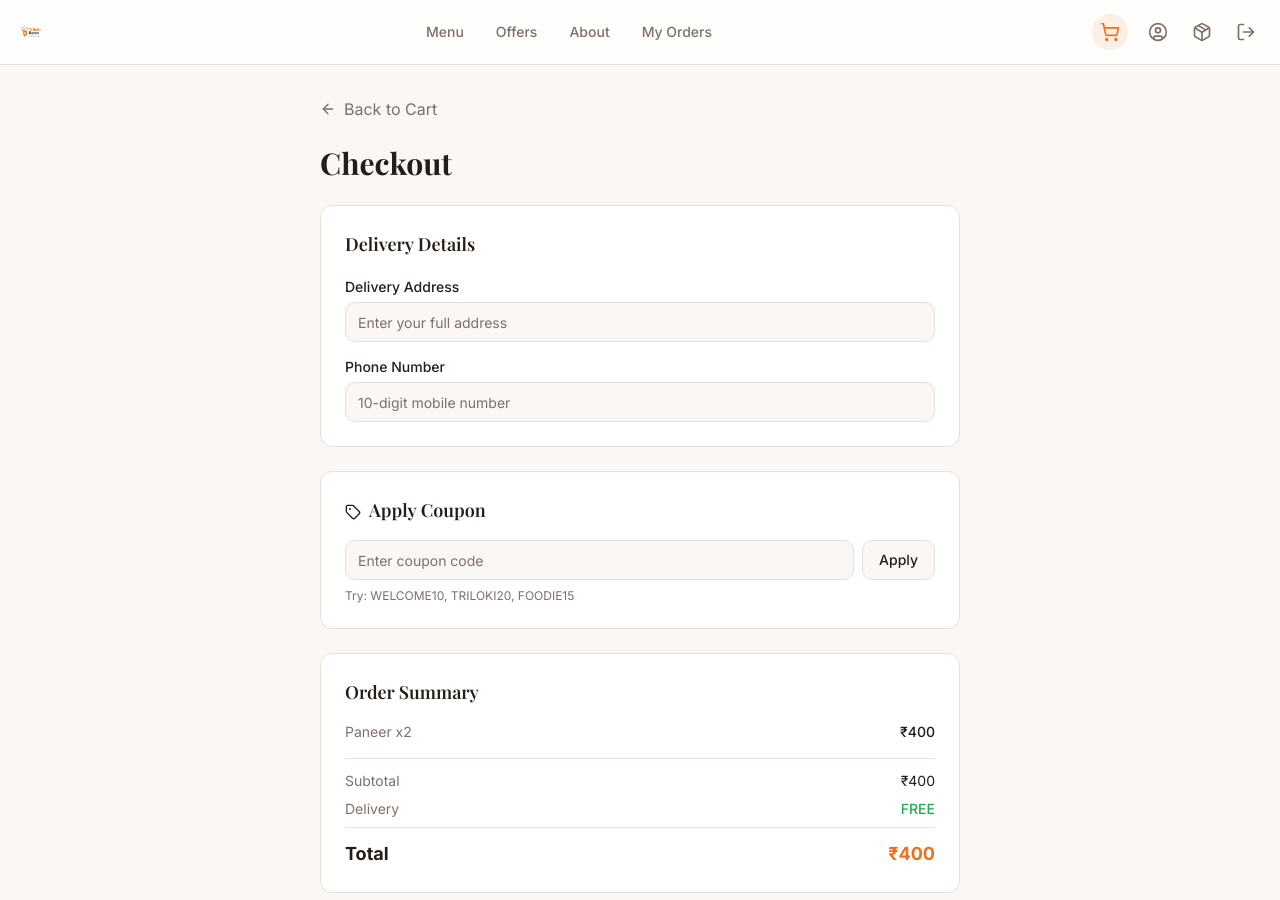
Test: Checkout › applies a valid coupon and places an order
Type "Main Street" into the field with placeholder "Enter your full address" at [640, 322], box [345,302,935,342]
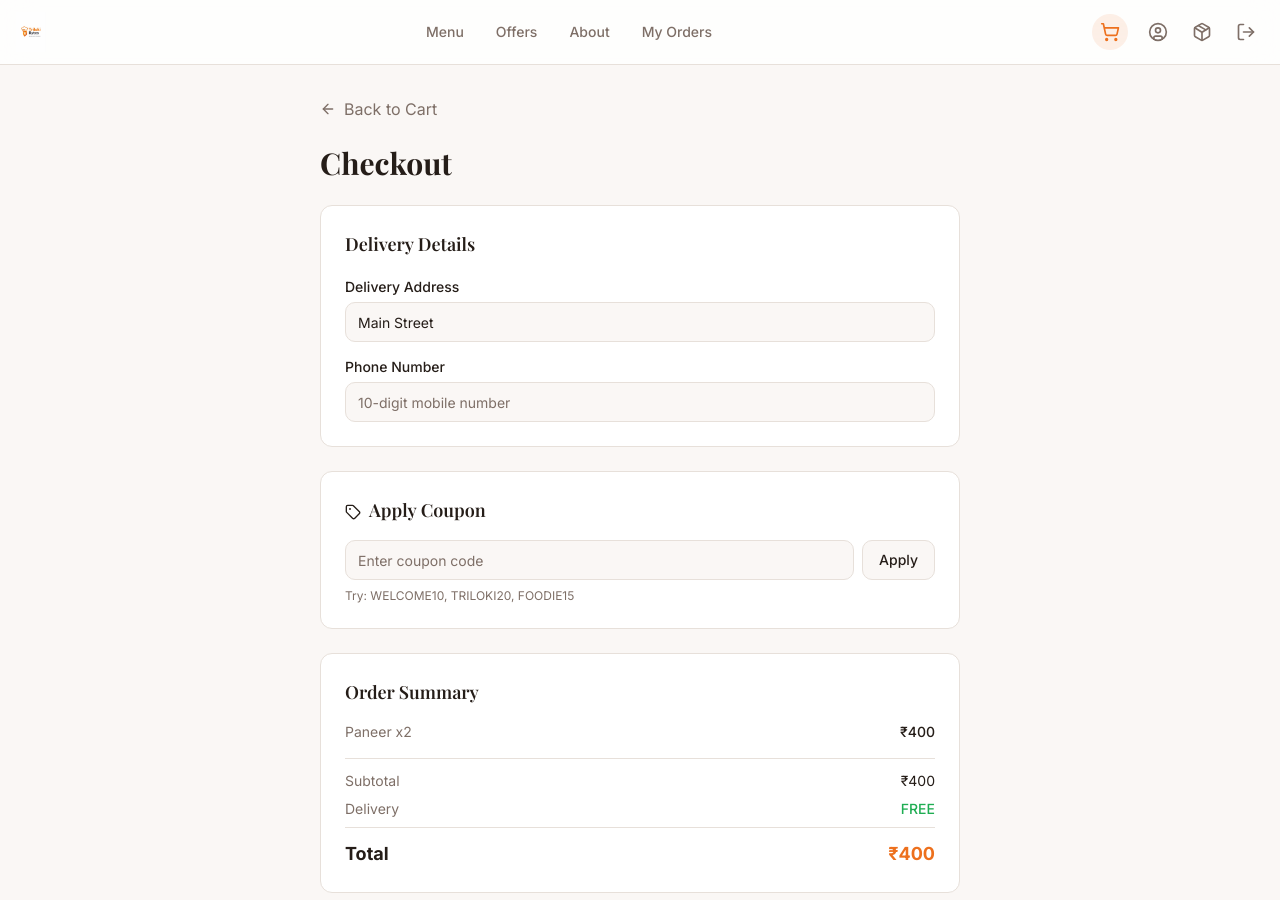
Type "9876543210" into the field with placeholder "10-digit mobile number" at [640, 402], box [345,382,935,422]
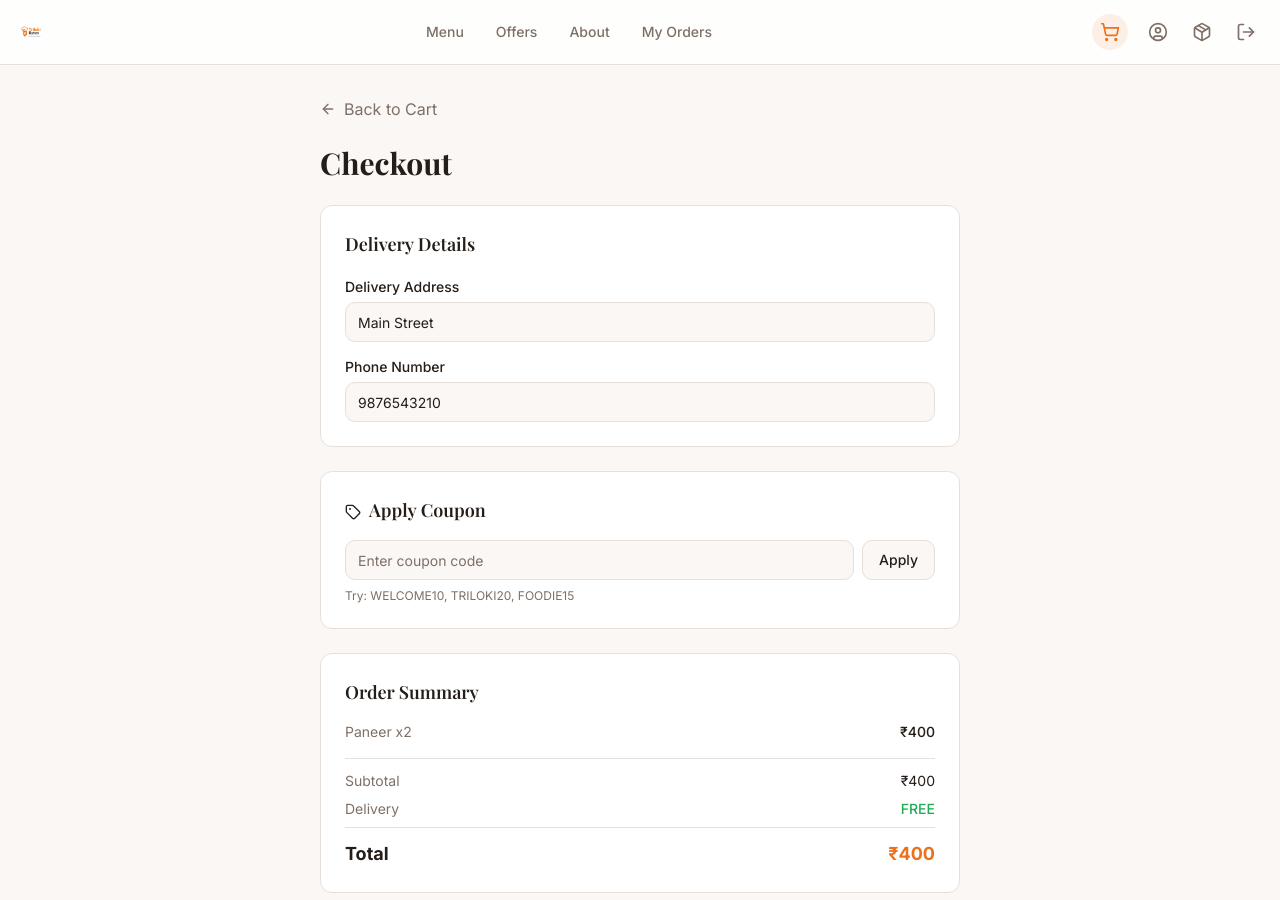
Type "WELCOME10" into the field with placeholder "Enter coupon code" at [600, 560], box [345,540,854,580]
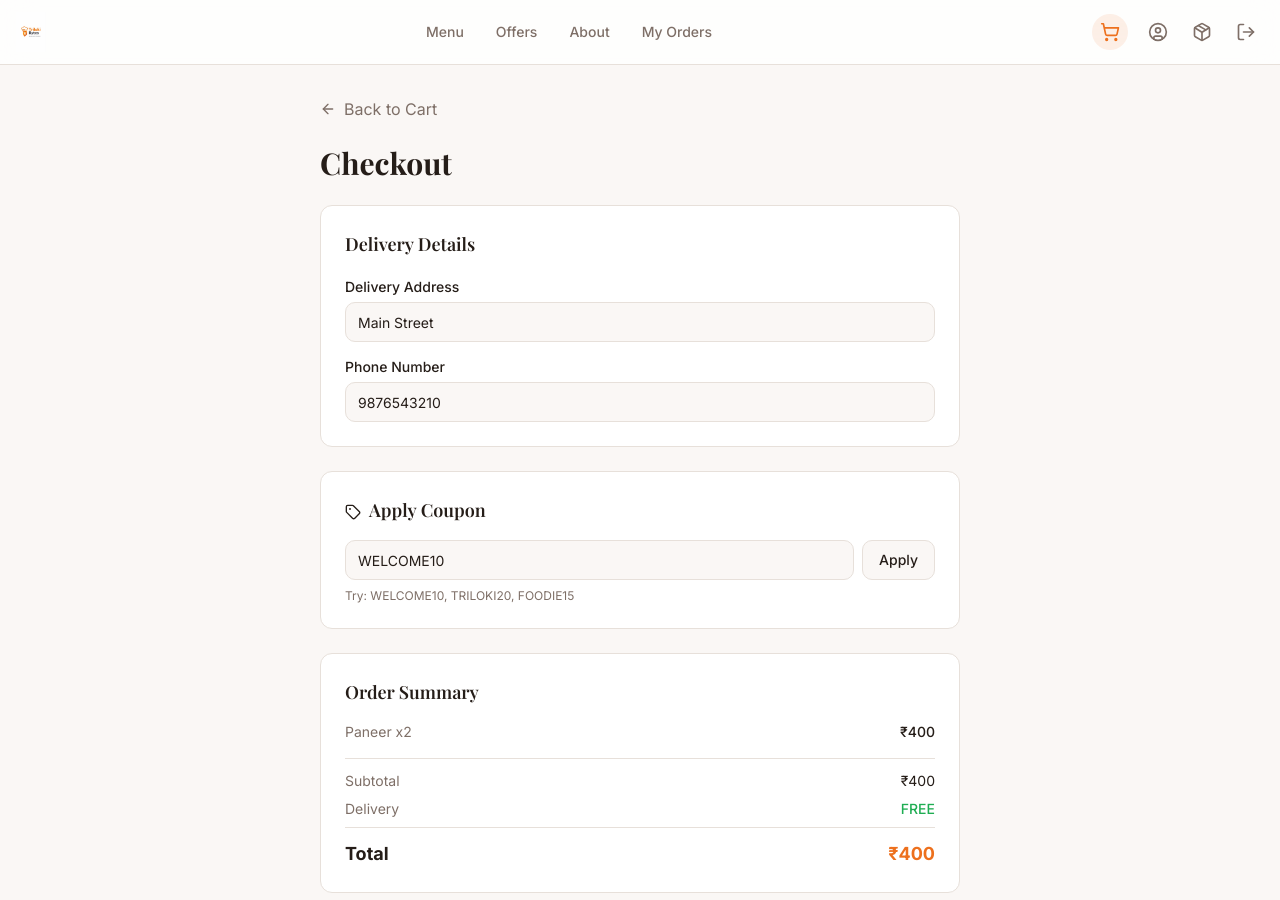
Click the button "Apply" at [899, 560], box [862,540,935,580]
(page scrolled)
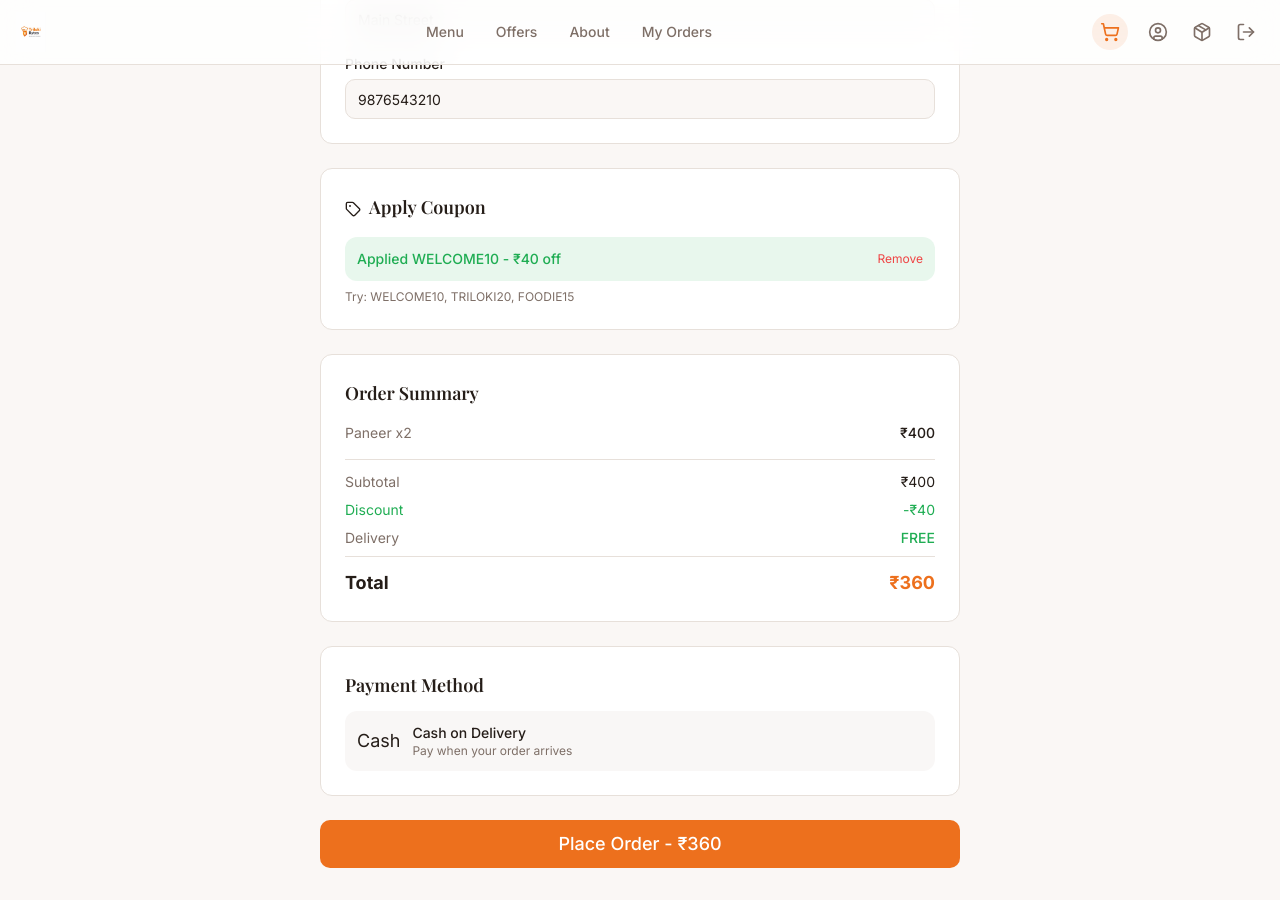
Click the button "Place Order - ₹360" at [640, 844], box [320,820,960,868]
(page scrolled)
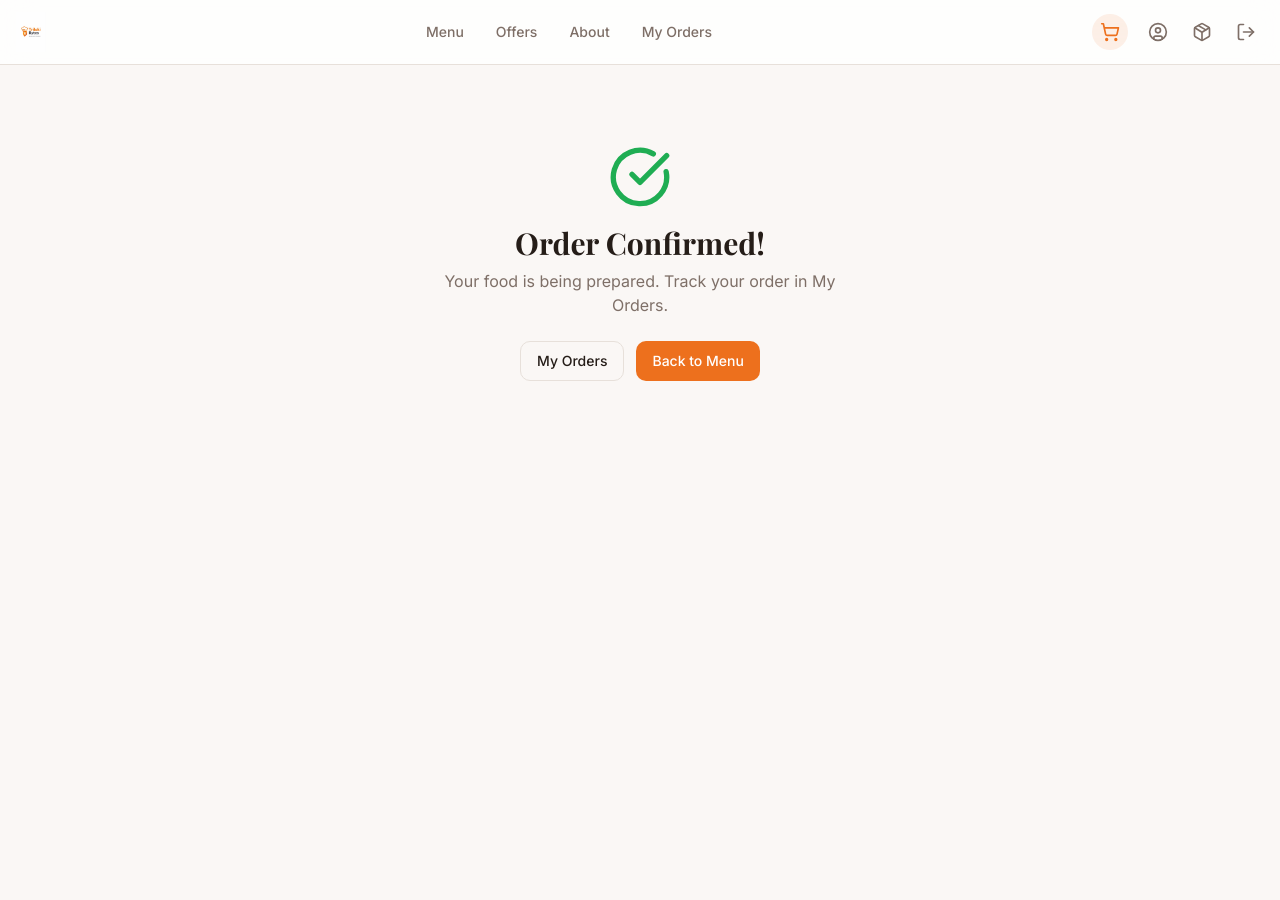
expect the heading "Order Confirmed!" is shown: met, box [515,223,765,263]
